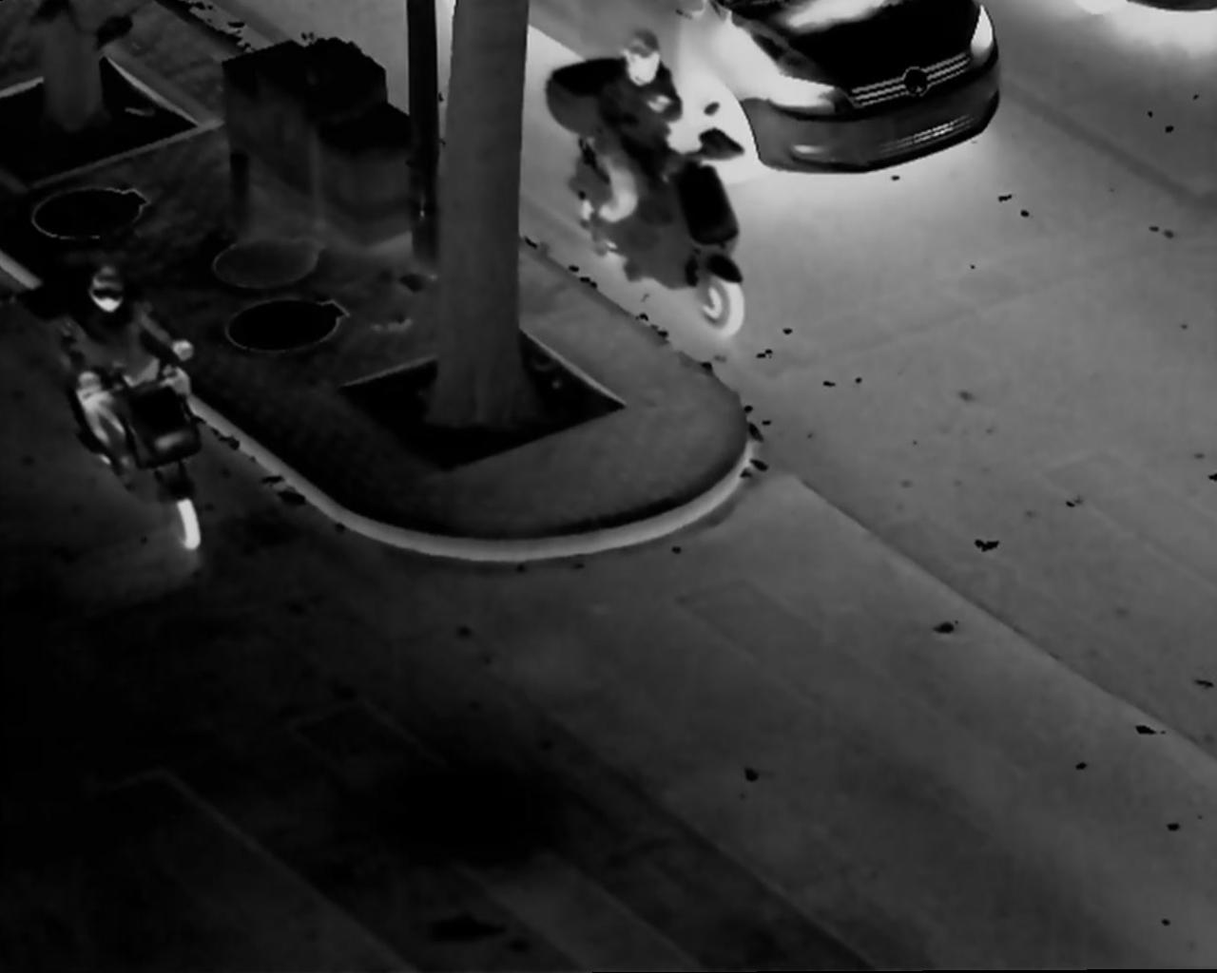person: (55, 267, 197, 474), (595, 27, 706, 256)
